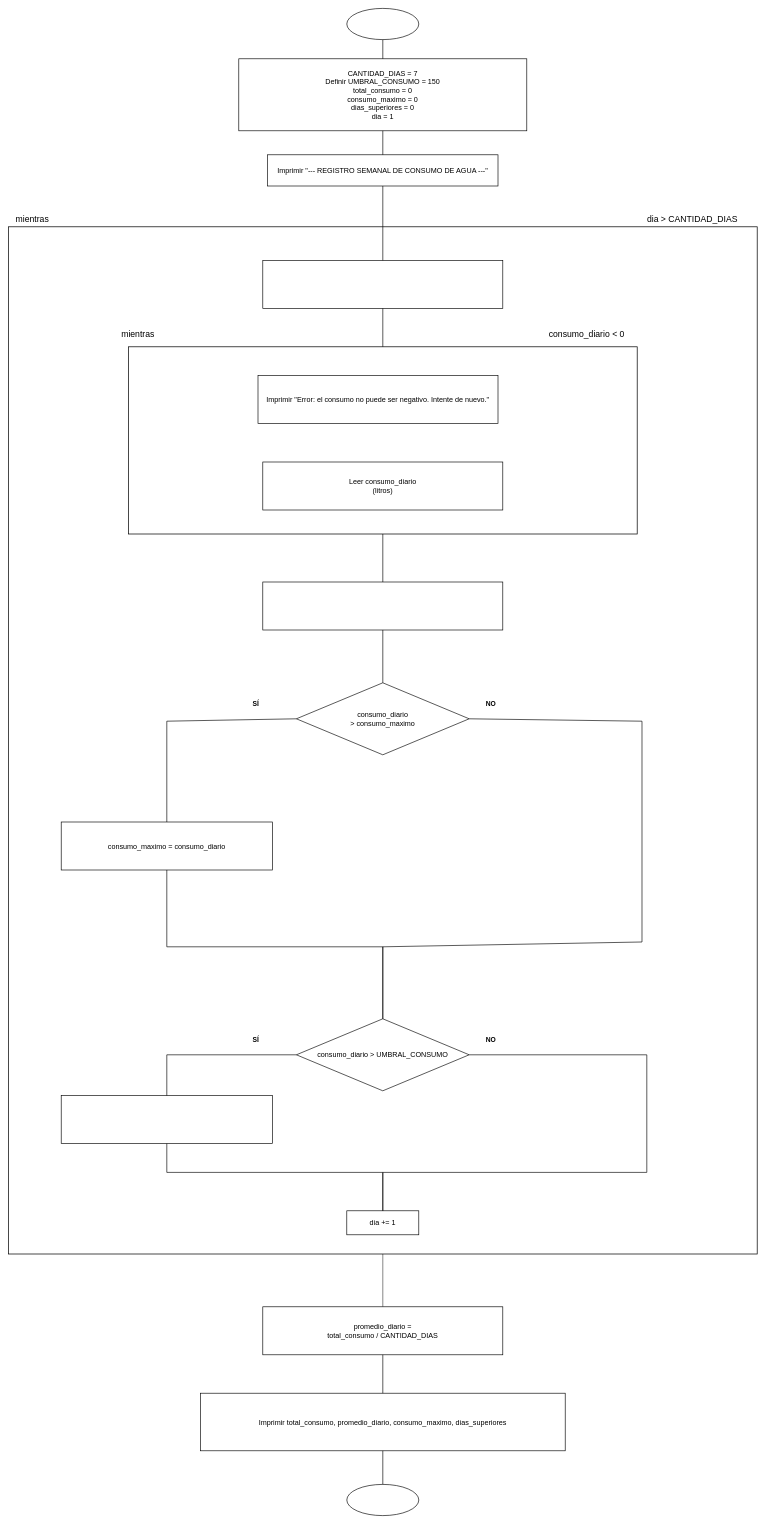
Image size: 766x1524. Some labels were removed from this diagram. The box of each missing label's shape, as (x1, y1, x2, y2) in pixels:
dias_superiores += 1: (61, 1095, 272, 1144)
FIN: (346, 1484, 419, 1516)
INICIO: (346, 8, 419, 40)
leer consumo_diario: (262, 260, 503, 308)
total_consumo += consumo_diario: (262, 581, 503, 630)
